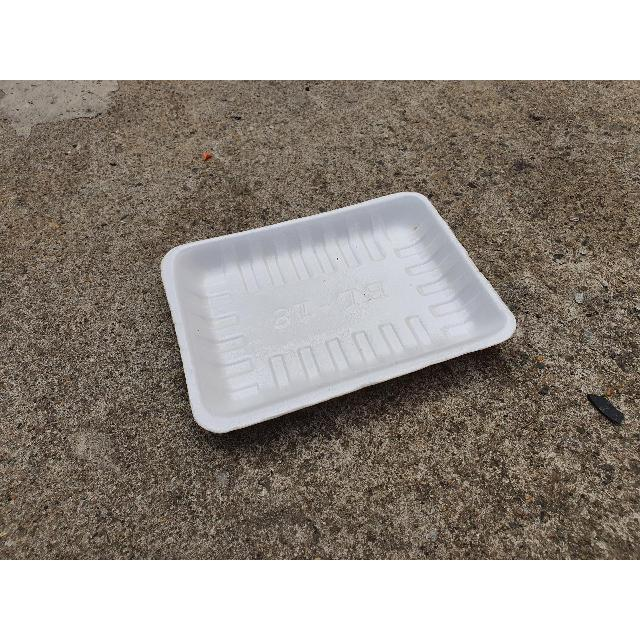Recipiente plastico: (161, 192, 515, 432)
